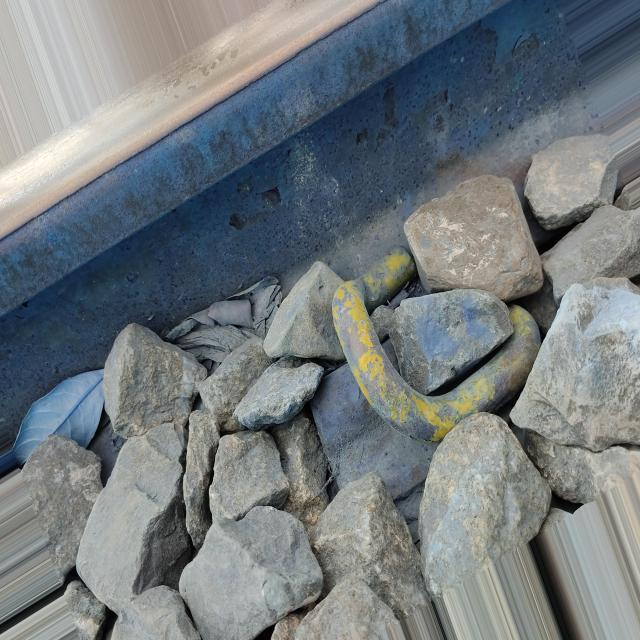Good Fasteners: (310, 252, 540, 519)
